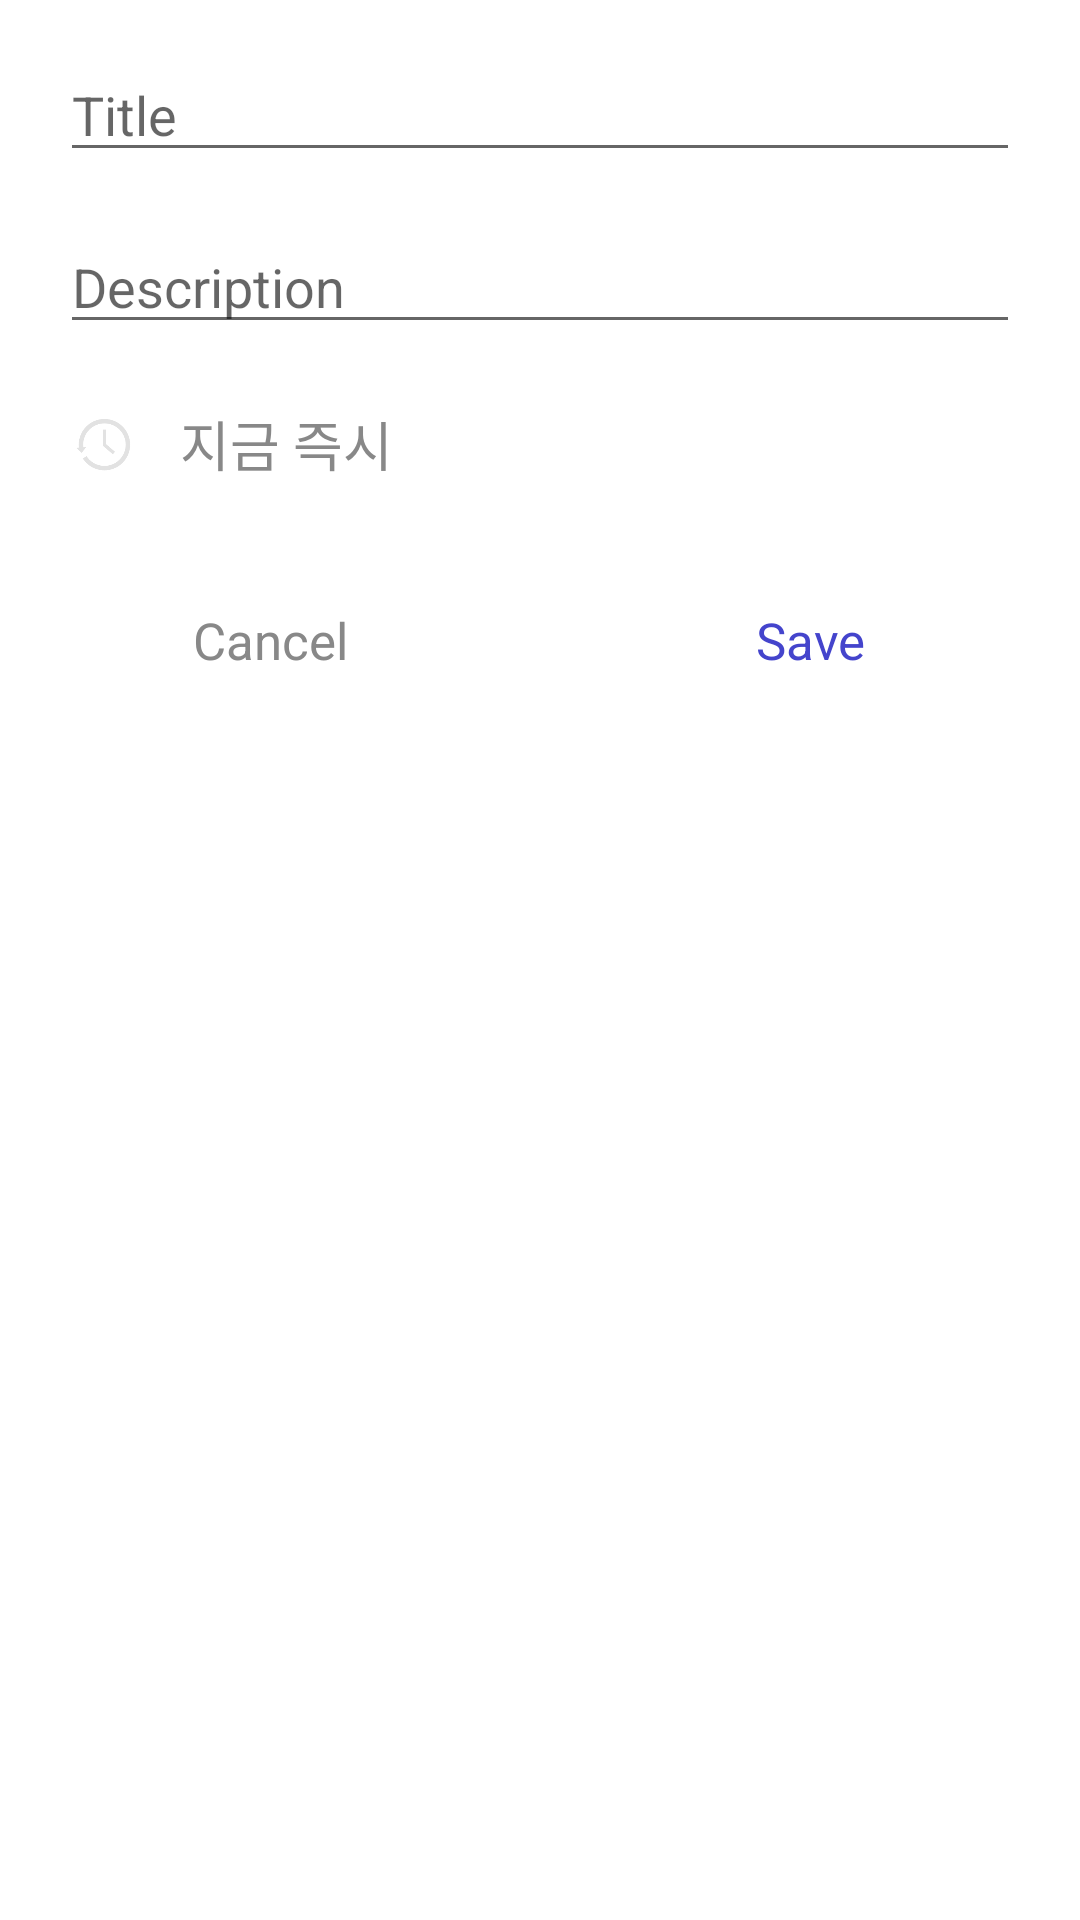

Locate icon controls on the screen. Image size 1080 × 1920, boxes as (x1=x1, y1=y1, x2=x2, y2=y2).
time: (x1=77, y1=419, x2=130, y2=470)
